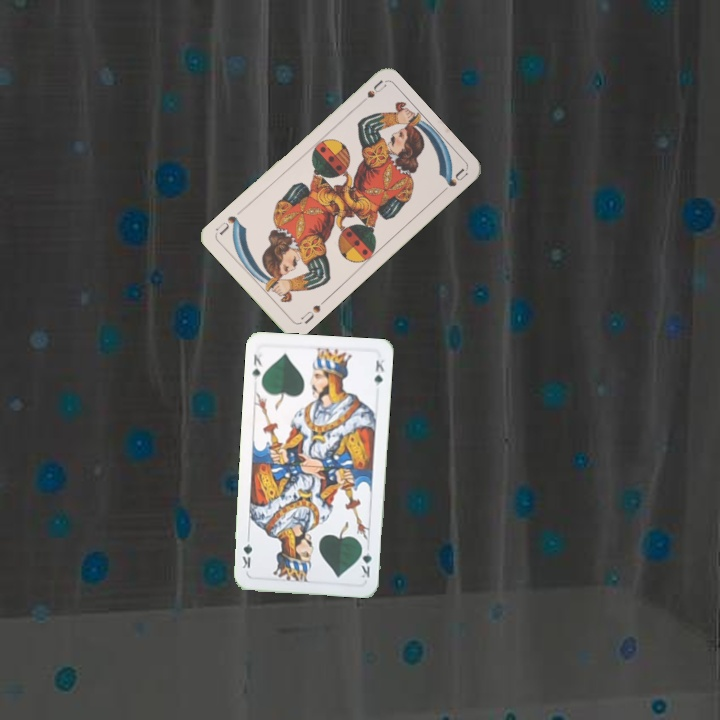GK: (357, 541, 374, 580), (248, 350, 265, 383)
SU: (353, 77, 388, 110), (297, 295, 328, 327)
